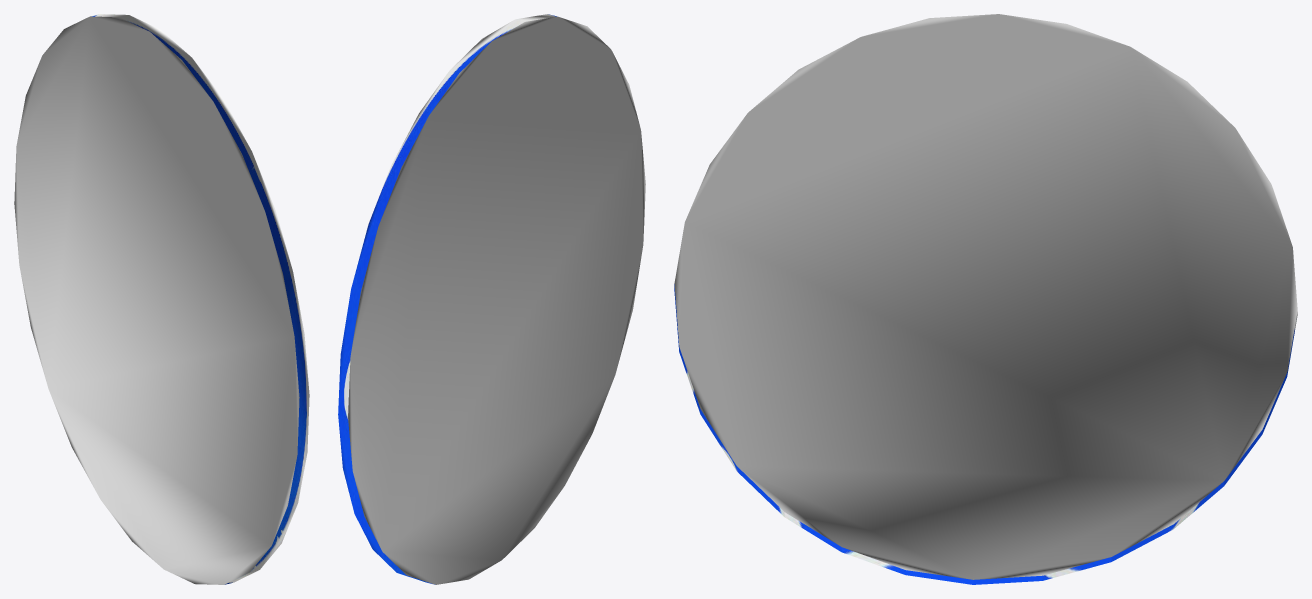
3 views of the same model, side by side, from view 1: azimuth 30°, elevation 25°; view 2: azimuth 150°, elevation 25°; view 3: azimuth 270°, elevation 25° (orthographic). The views are drawn at different scales.
Parts seen in each view (by area): view 1: model16; view 2: model16; view 3: model16.
Part boxes in pixels (x1,y1,x2,y2): model16: (14, 14, 309, 584); model16: (338, 14, 645, 584); model16: (674, 14, 1297, 584).
Bounding box in the file's own units: 0.0396 × 1.19 × 1.19.
2 materials, 2 textured.
